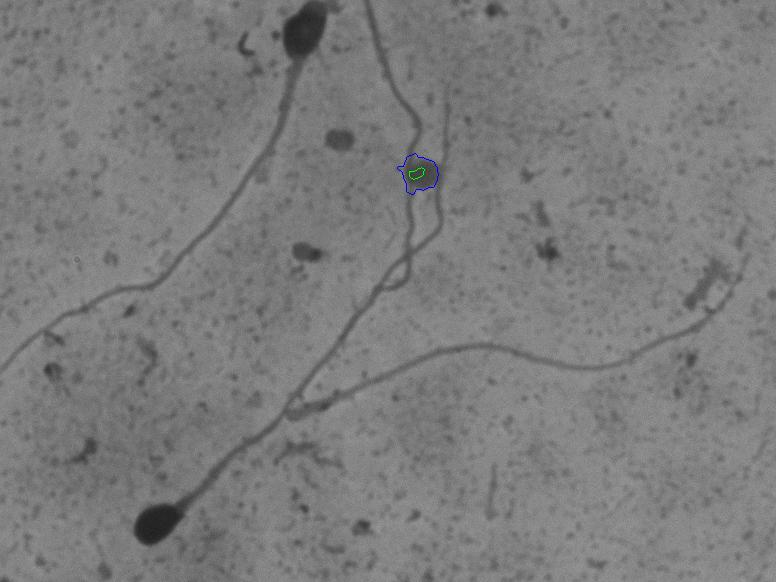Abnormal: (109, 77, 460, 563)
